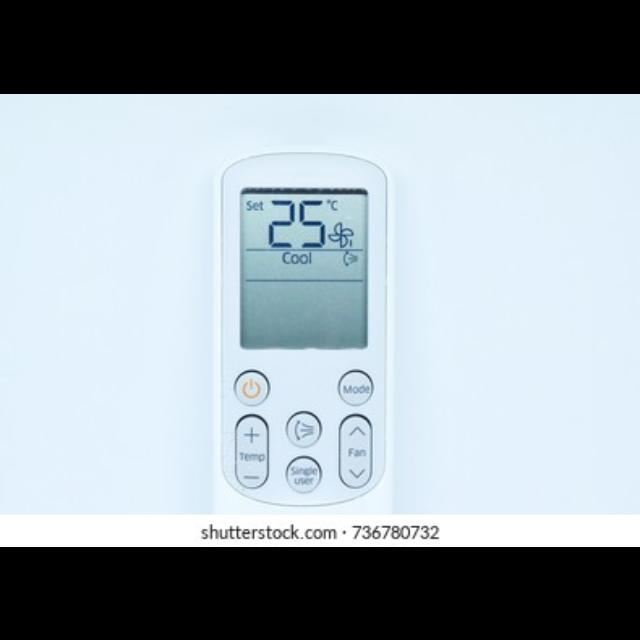TV-Remote-Control: (207, 148, 397, 516)
